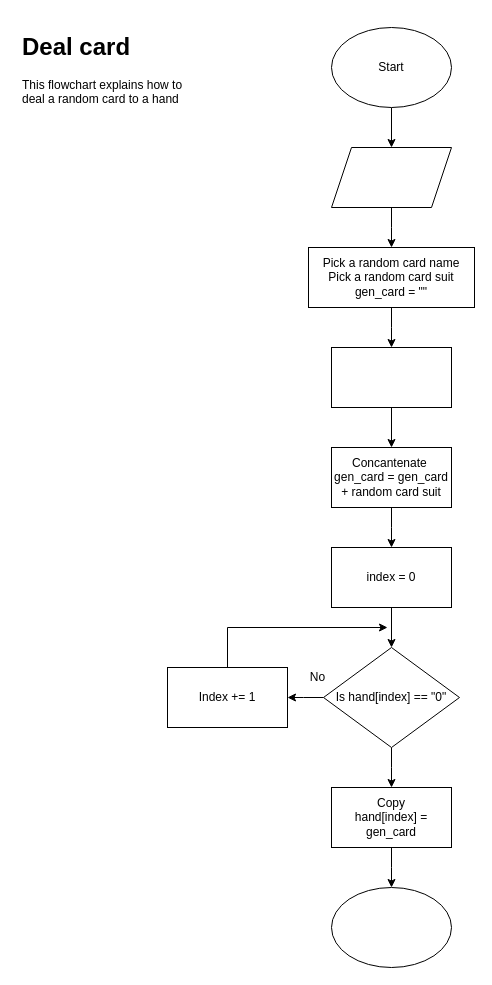
Some shapes in this 492 by 985 pixel diagram are drawn without their labels. Here are the shapes that lost their labels. From the top down, the centre of each, then its label:
the point at 391,177: Pass a by reference to "hand" array
the point at 391,377: Copy random card name into gen_card
the point at 391,927: END
